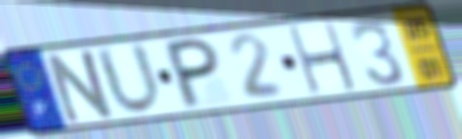2: (228, 31, 289, 101)
3: (351, 17, 406, 88)
H: (285, 20, 361, 98)
N: (44, 46, 120, 127)
P: (165, 35, 222, 113)
U: (91, 40, 166, 119)
